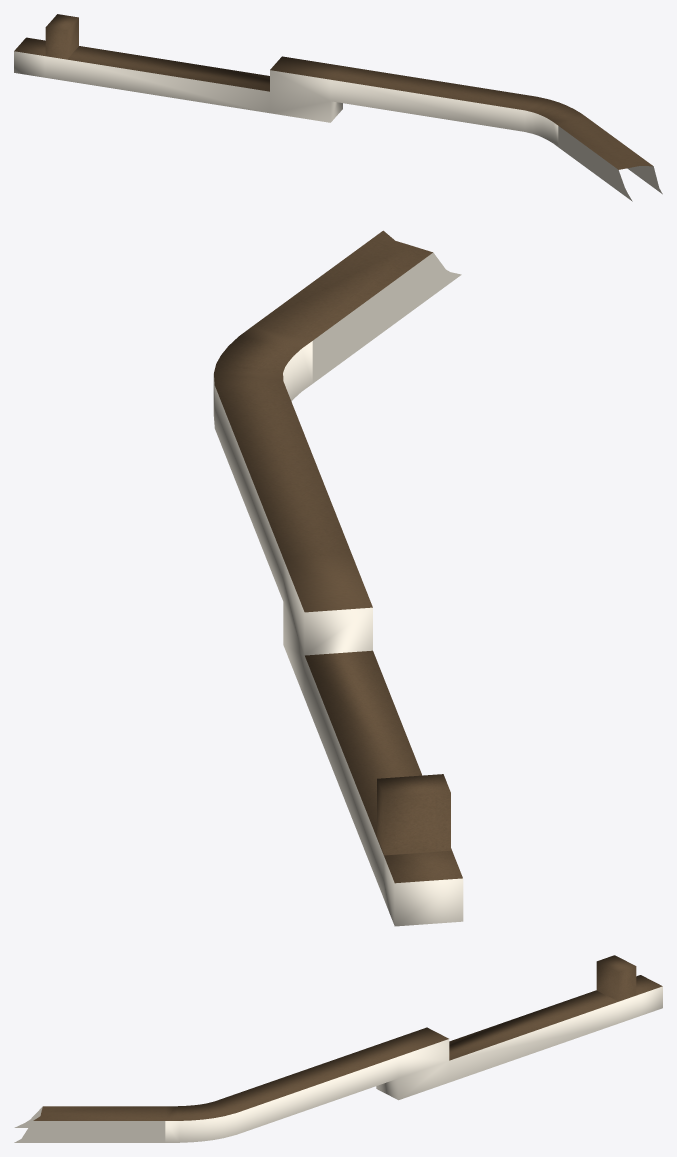
File: fireRoomConnector_walls.fbx
3 views of the same model, one above another, from view 1: azimuth 30°, elevation 25°; view 2: azimuth 150°, elevation 25°; view 3: azimuth 270°, elevation 25° (orthographic). The views are drawn at different scales.
Visible parts, largest first — view 1: jumpRoomExitConnector; view 2: jumpRoomExitConnector; view 3: jumpRoomExitConnector.
Part boxes in pixels (bbox=[...]): jumpRoomExitConnector: bbox=[14, 14, 662, 201]; jumpRoomExitConnector: bbox=[213, 230, 463, 926]; jumpRoomExitConnector: bbox=[14, 955, 662, 1142].
Size of the model in its own units: 7477 by 1057 by 12204.
